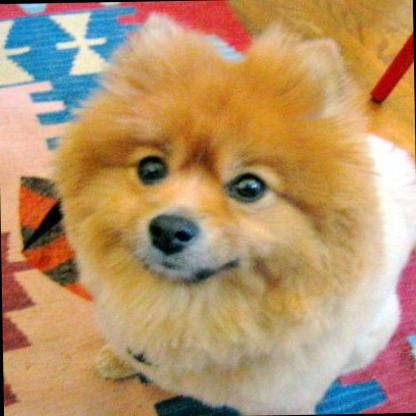Pomeranian: (46, 4, 416, 415)
